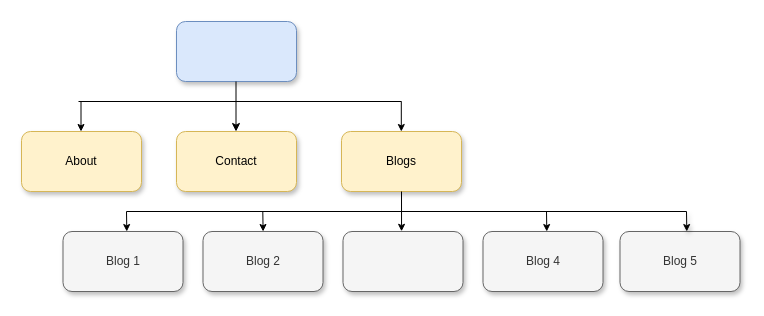
Some shapes in this 764 by 316 pixel diagram are drawn without their labels. Each missing label, with the centre of its shape:
"Blog 3" belongs at [403,262].
"Home" belongs at [237,52].
